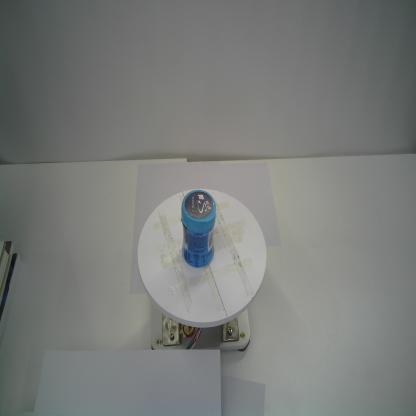Gum: (180, 188, 217, 269)
